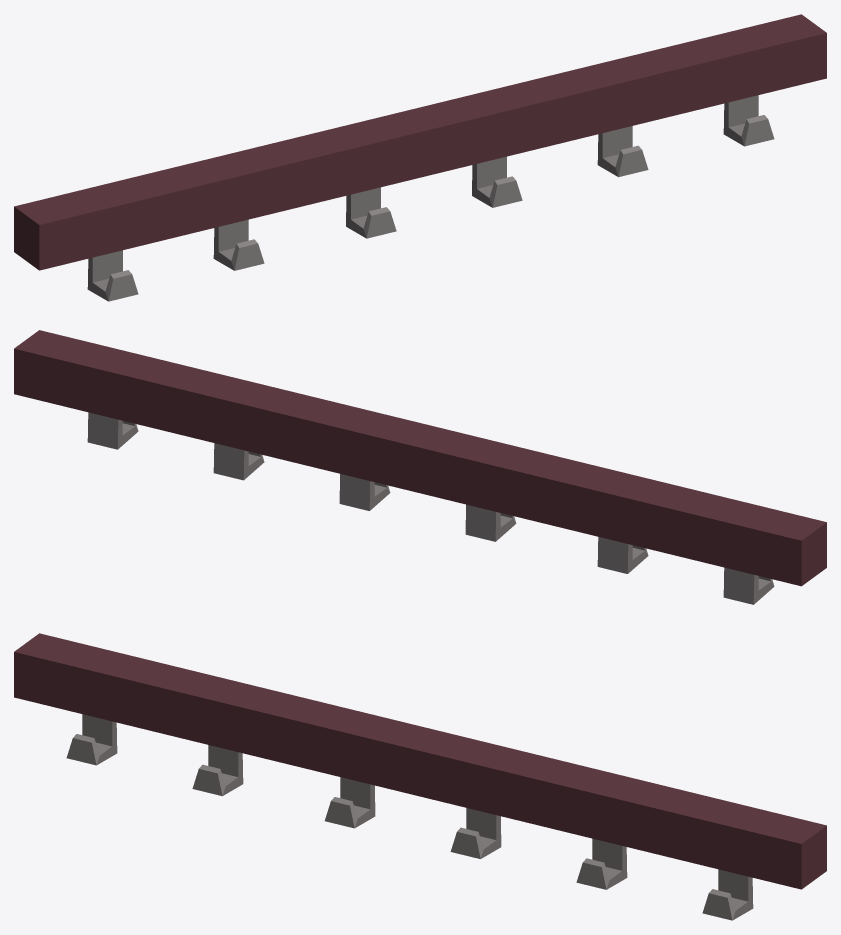
The model's file is hanger-wall-clothes.fbx.
The picture shows the model from 3 angles, top to bottom: view 1: azimuth 30°, elevation 25°; view 2: azimuth 150°, elevation 25°; view 3: azimuth 330°, elevation 25°; orthographic projection.
Visible parts, largest first — view 1: hanger-wall-clothes; view 2: hanger-wall-clothes; view 3: hanger-wall-clothes.
Boxes of the visible parts, x1,y1,x2,y2 form: hanger-wall-clothes: (14,14,826,301); hanger-wall-clothes: (14,330,826,604); hanger-wall-clothes: (14,633,826,920).
Bounding box in the file's own units: 0.7231 × 0.0776 × 0.0536.
